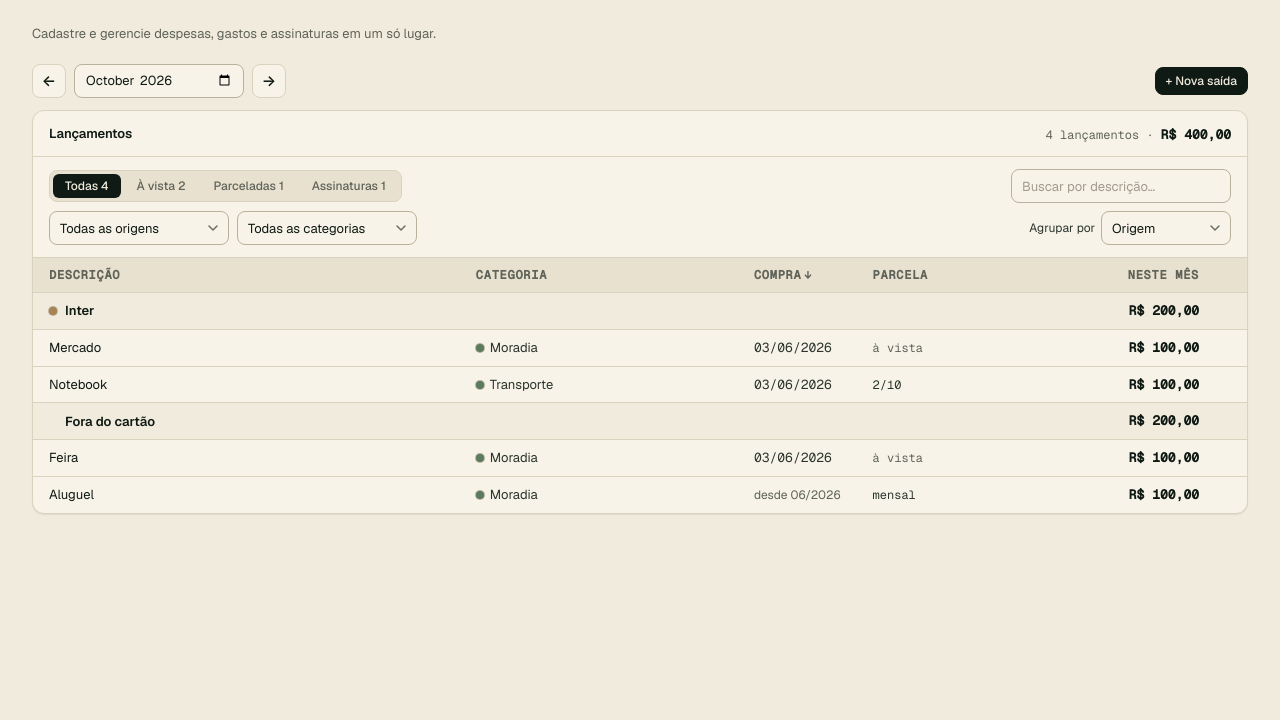
it: SaidasPage — filtros (RF-DES-23) › filtrar por categoria mostra só as saídas dela, e as abas acompanham
Expected: the row "Mercado Moradia 03/06/2026 à vista R$ 100,00" is shown, [33,329,1247,366]
Select "Transporte" in the dropdown named "Filtrar por categoria". click: (327, 228)
box: [237,211,417,245]
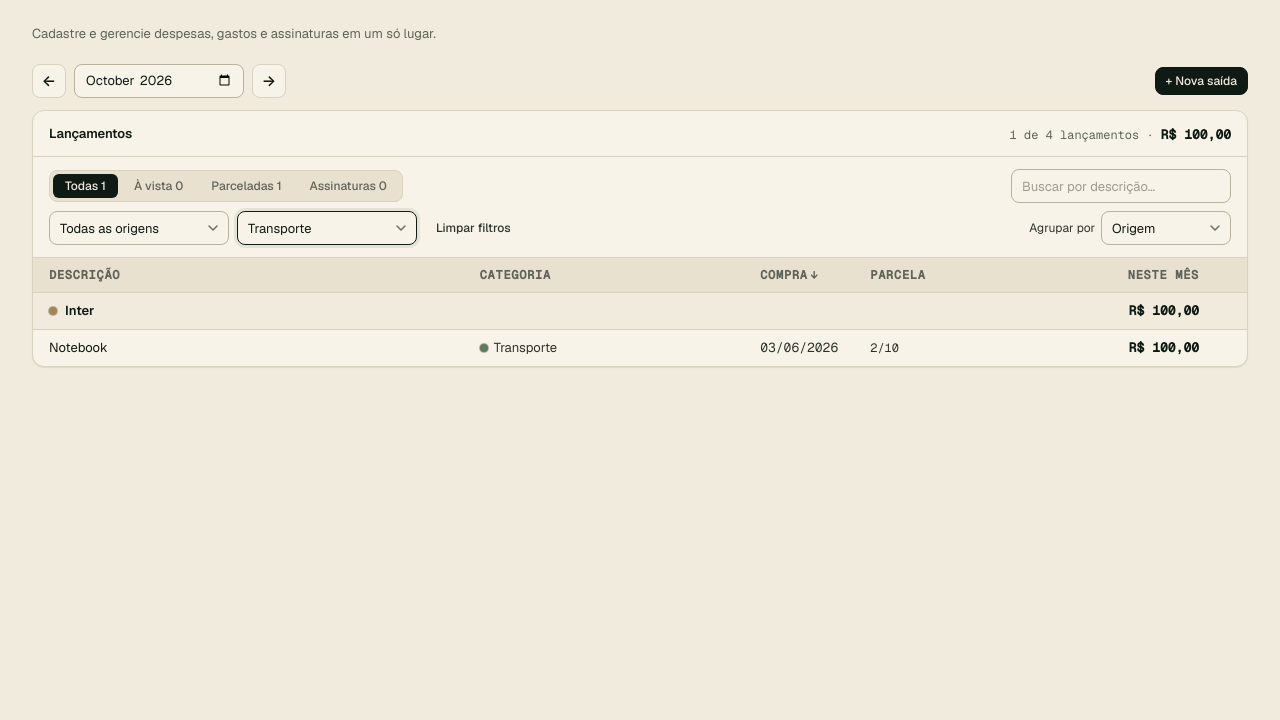
Expected: the row "Notebook Transporte 03/06/2026 2/10 R$ 100,00" is shown, [33,329,1247,366]
Expected: the text "Mercado" is gone
Expected: the radio button labelled "Todas 1" is shown, [53,174,118,198]
